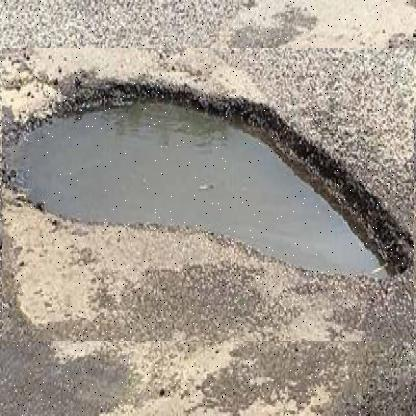pothole_water: (1, 48, 414, 342)
